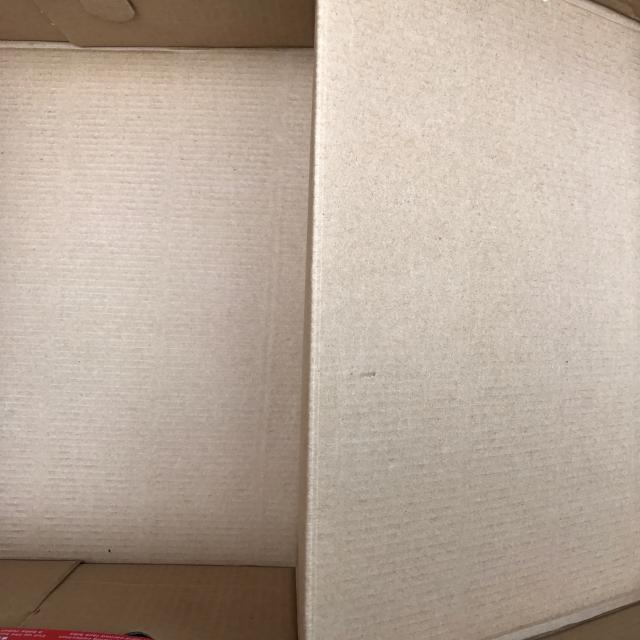cardboard: (299, 0, 639, 639), (0, 40, 314, 568)
